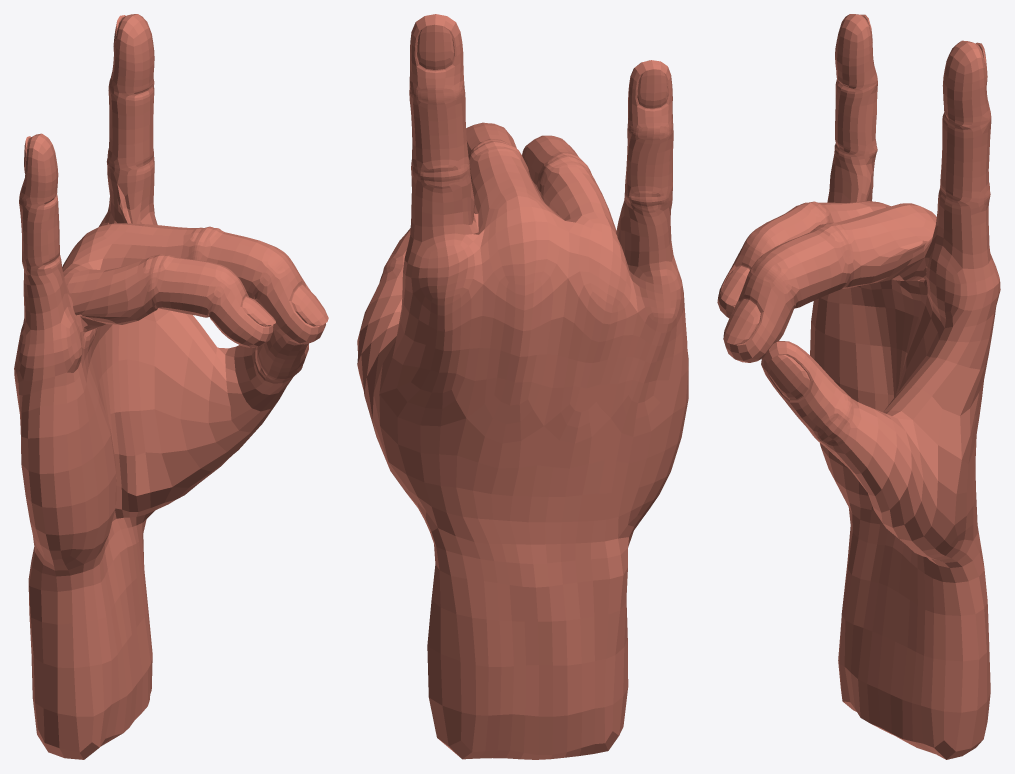
File: zoin.glb
3 views of the same model, side by side, from view 1: azimuth 30°, elevation 25°; view 2: azimuth 150°, elevation 25°; view 3: azimuth 270°, elevation 25° (orthographic). The views are drawn at different scales.
Visible parts, largest first — view 1: ZBrushPolyMesh3D; view 2: ZBrushPolyMesh3D; view 3: ZBrushPolyMesh3D.
Boxes of the visible parts, box(x1,y1,x2,y2) form: ZBrushPolyMesh3D: box(14, 14, 328, 759); ZBrushPolyMesh3D: box(357, 14, 688, 759); ZBrushPolyMesh3D: box(717, 14, 1000, 759).
Bounding box in the file's own units: 2.2 × 5.09 × 1.8.
